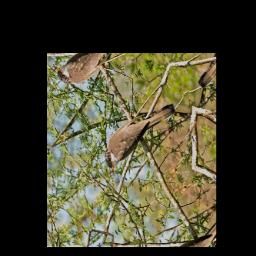Cuckoo: (96, 89, 181, 177)
